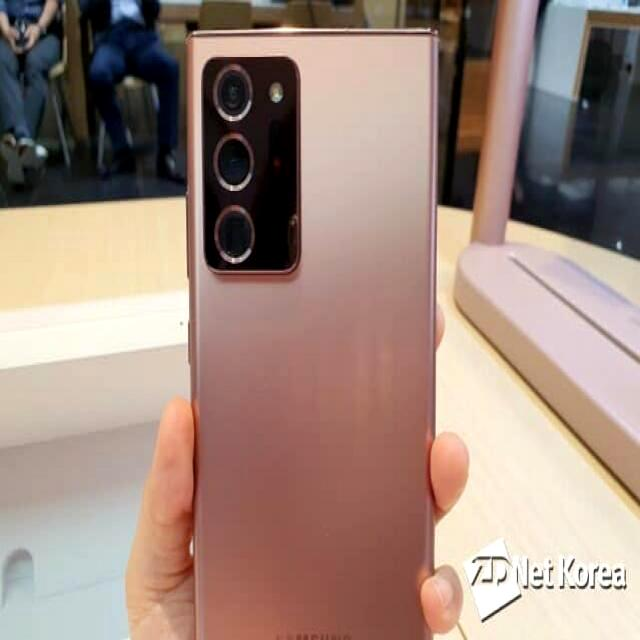lens_back: (211, 61, 257, 125), (212, 206, 256, 266), (214, 133, 256, 192)
phone: (180, 21, 445, 640)
